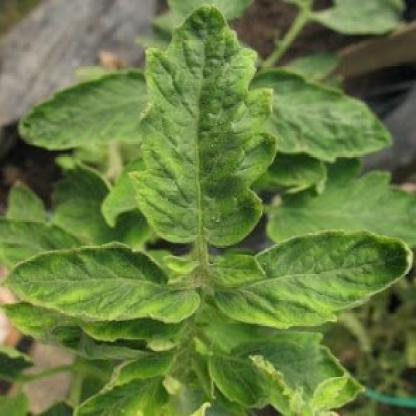tomato leaf yellow virus: (128, 26, 267, 254), (213, 229, 413, 341), (221, 61, 400, 163), (18, 244, 200, 337), (18, 66, 155, 169)
